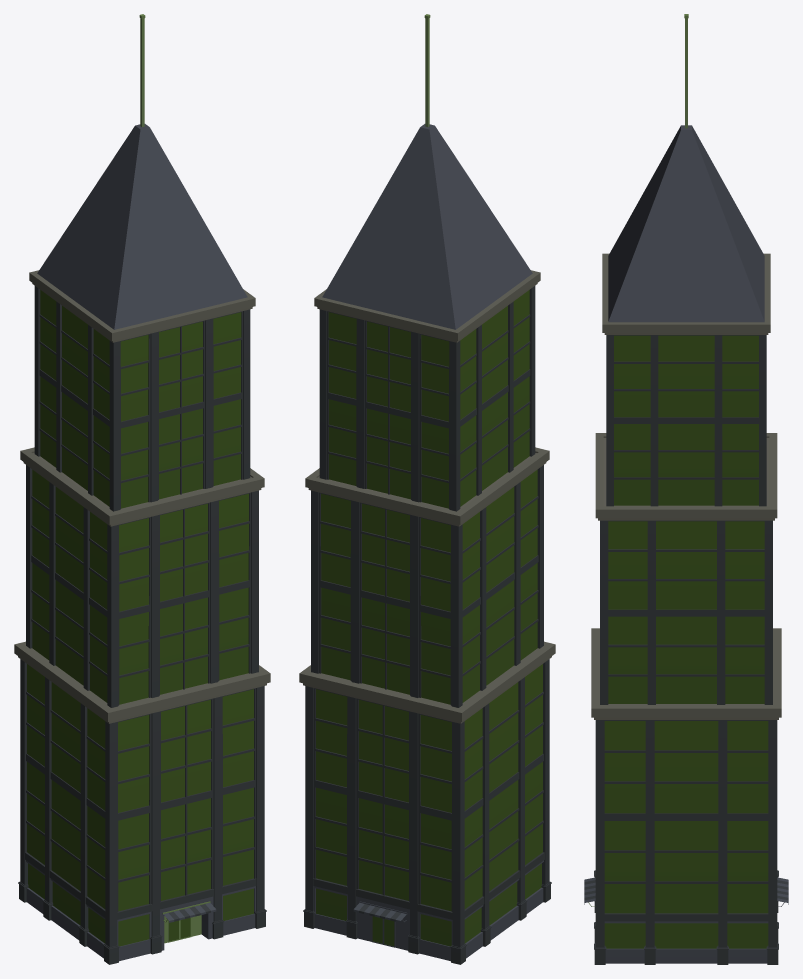
File: House_42.fbx
The picture shows the model from 3 angles, left to right: view 1: azimuth 30°, elevation 25°; view 2: azimuth 150°, elevation 25°; view 3: azimuth 270°, elevation 25°; orthographic projection.
Visible parts, largest first — view 1: House_42; view 2: House_42; view 3: House_42.
Part boxes in pixels (box(x1,y1,x2,y2)): House_42: box(14, 14, 270, 964); House_42: box(299, 14, 555, 964); House_42: box(584, 14, 788, 964).
Size of the model in its own units: 12.06 by 63.65 by 12.93.
